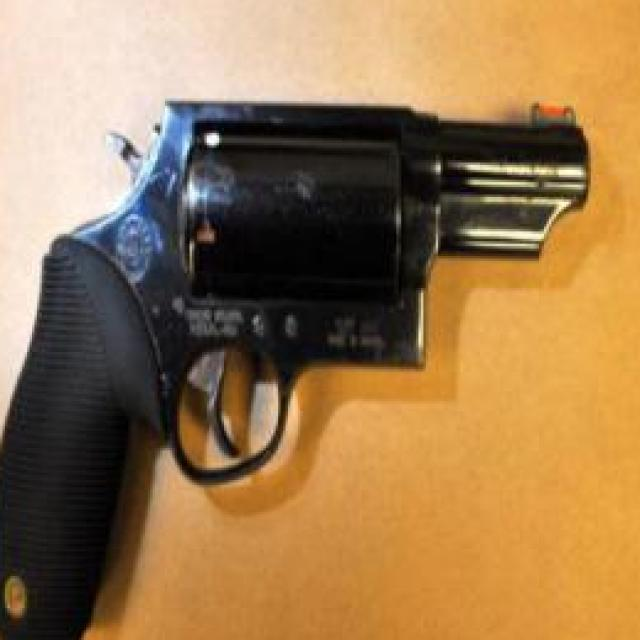pistol: (0, 79, 591, 640)
